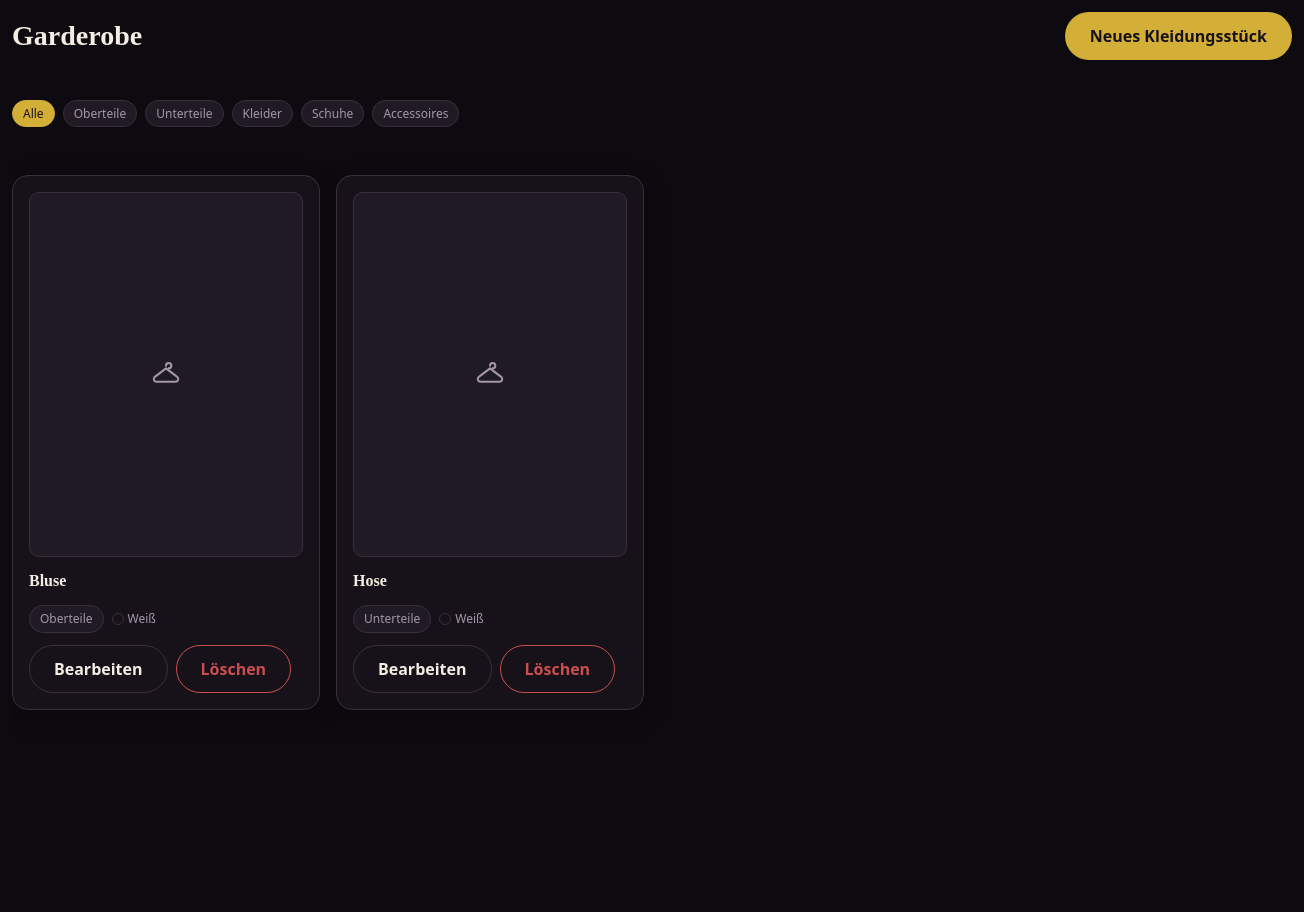
Test case: WardrobePage › filters the items by category
The width and height of the screenshot is (1304, 912).
expect the heading "Hose" is shown: met, box [353,572,387,589]
Step 1. Click the button "Oberteile" → coordinates (100, 114), box [63,100,137,127]
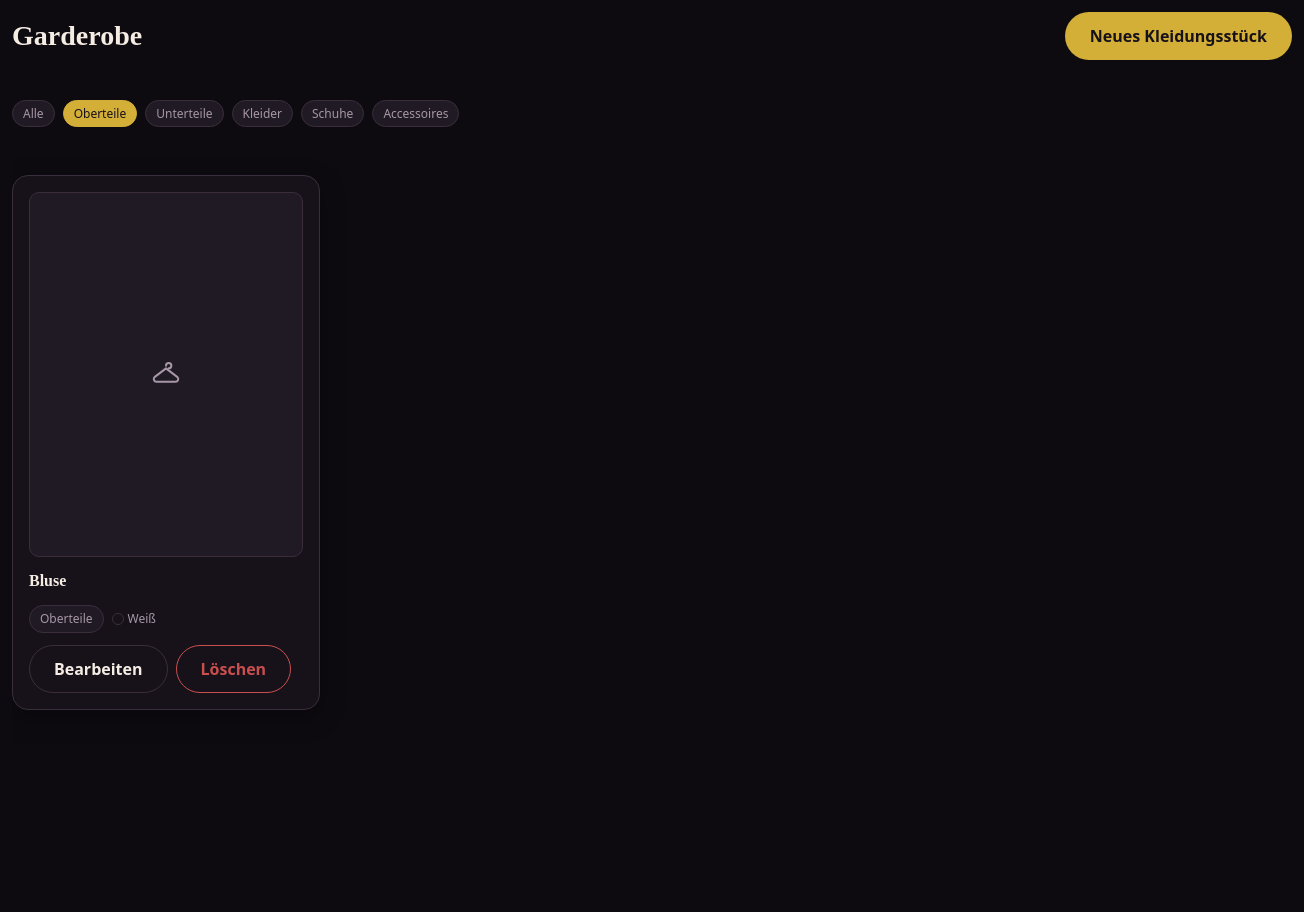
expect the heading "Bluse" is shown: met, box [29,572,66,589]
expect the heading "Hose" is gone: met
